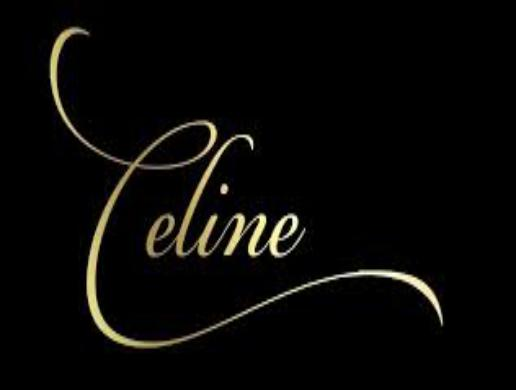CELINE: (24, 22, 462, 348)
